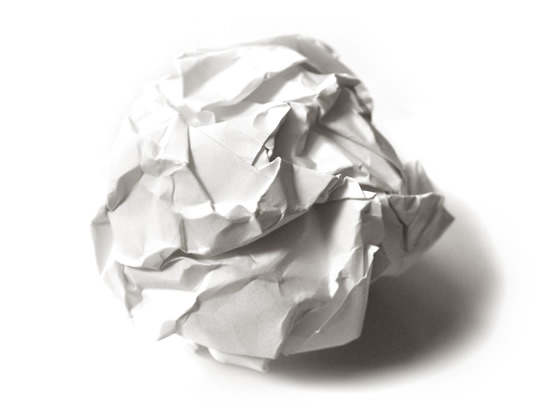flexible: (80, 32, 456, 371)
